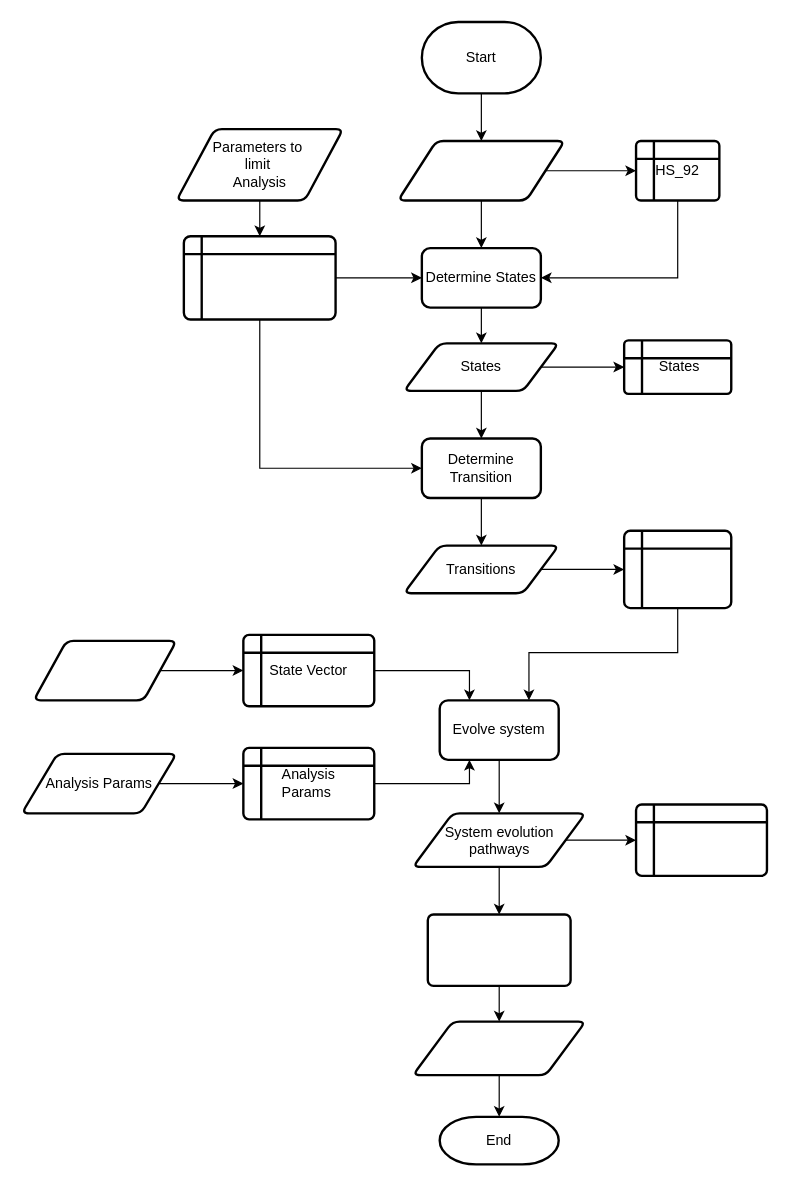
This 789x1185 diagram has some shape labels left out. Here are the shapes that lost their labels. From the top down, the centre of each, then its label:
pixel 480 170: Product Proximity Data
pixel 259 277: Params
pixel 677 569: Transition Matrix
pixel 104 670: Country Data
pixel 701 839: System Pathways
pixel 498 950: Pathway Diversity Analysis
pixel 498 1048: Pathway Diversity
